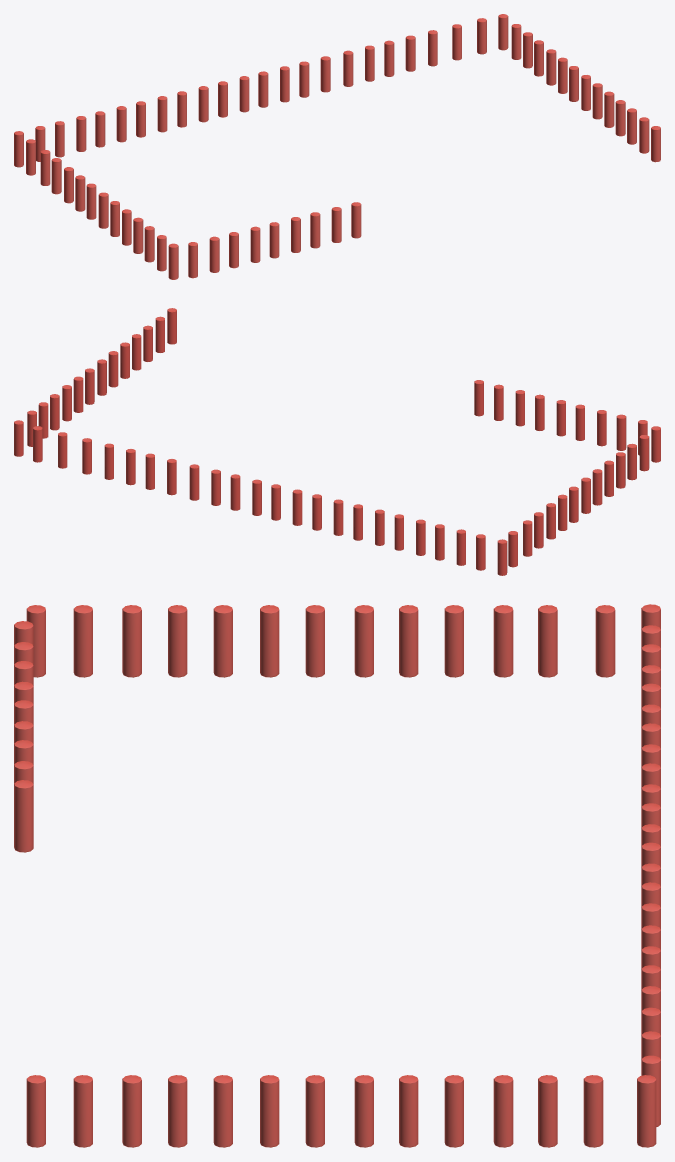
Rendered from Fence.fbx.
The picture shows the model from 3 angles, top to bottom: view 1: azimuth 30°, elevation 25°; view 2: azimuth 150°, elevation 25°; view 3: azimuth 270°, elevation 25°; orthographic projection. The views are drawn at different scales.
Visible parts, largest first — view 1: Fence; view 2: Fence; view 3: Fence.
Part boxes in pixels (x1=…): Fence: x1=14, y1=14, x2=660, y2=279; Fence: x1=14, y1=308, x2=660, y2=575; Fence: x1=14, y1=604, x2=660, y2=1147.
Bounding box in the file's own units: 15.65 × 0.9834 × 8.93.
Materials: 1 (1 with a texture image).
